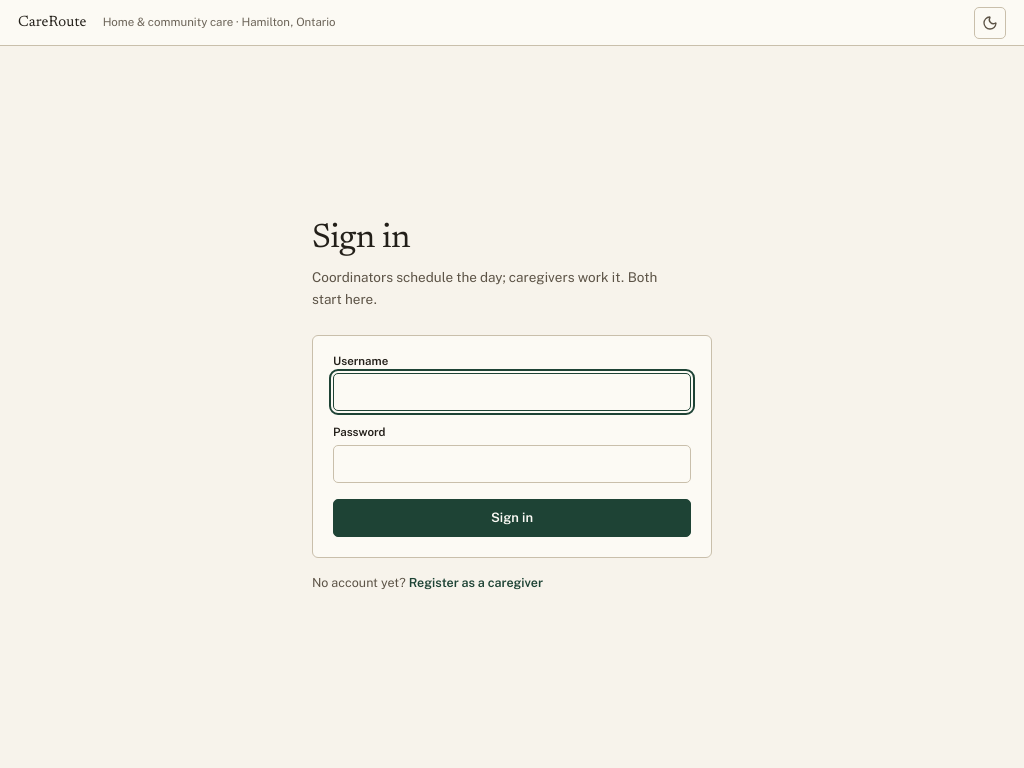
Scenario: login form › refuses the round trip when the fields are empty
Click the button "Sign in" at (512, 518), box [333,499,691,537]
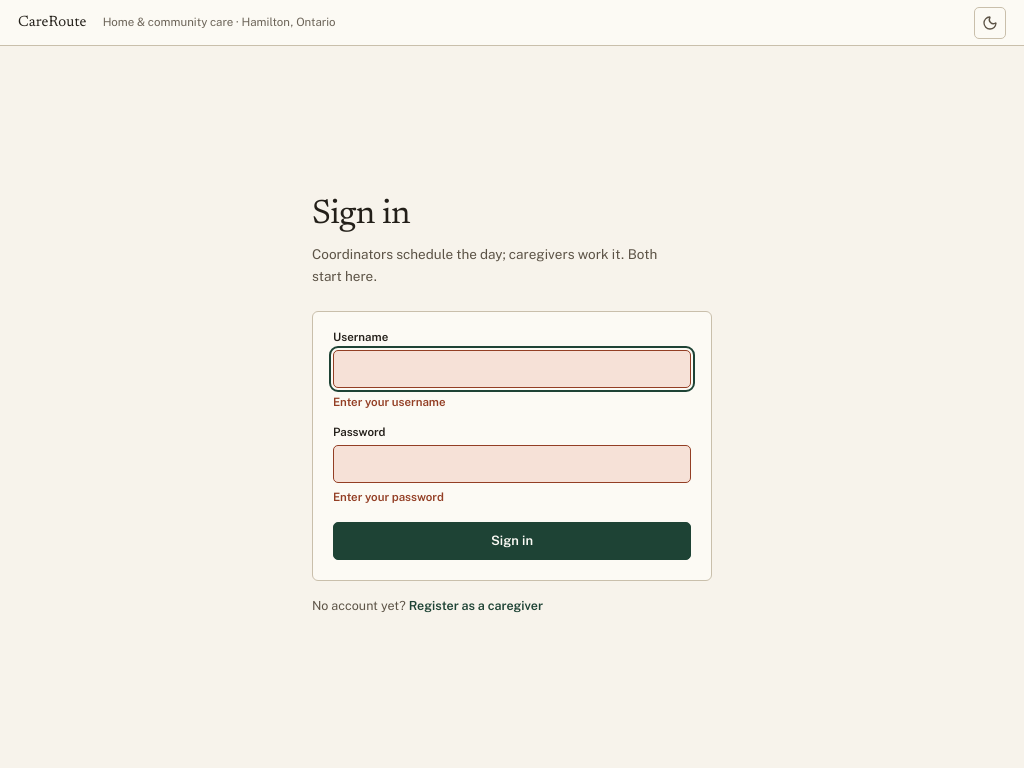
Expected: the text "Enter your username" is shown, [333,395,446,409]
Expected: the text "Enter your password" is shown, [333,490,444,504]
